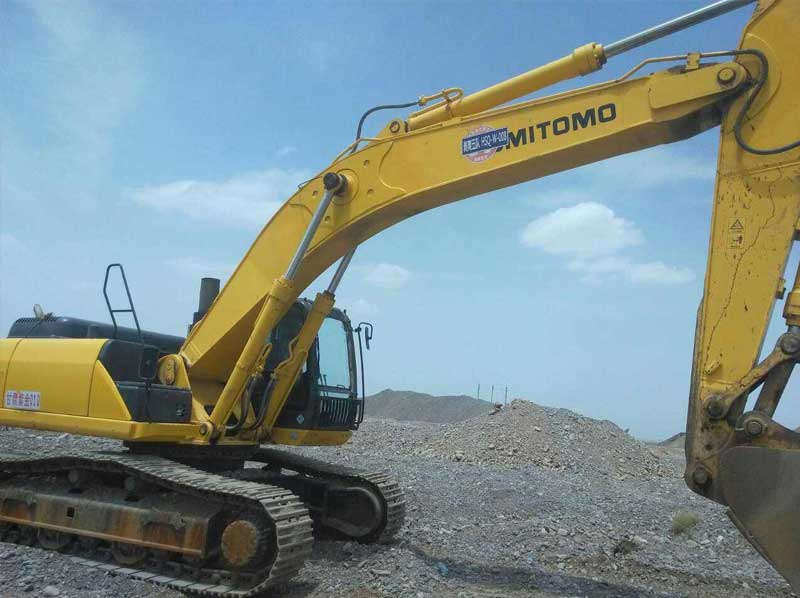excavator: (1, 1, 798, 585)
